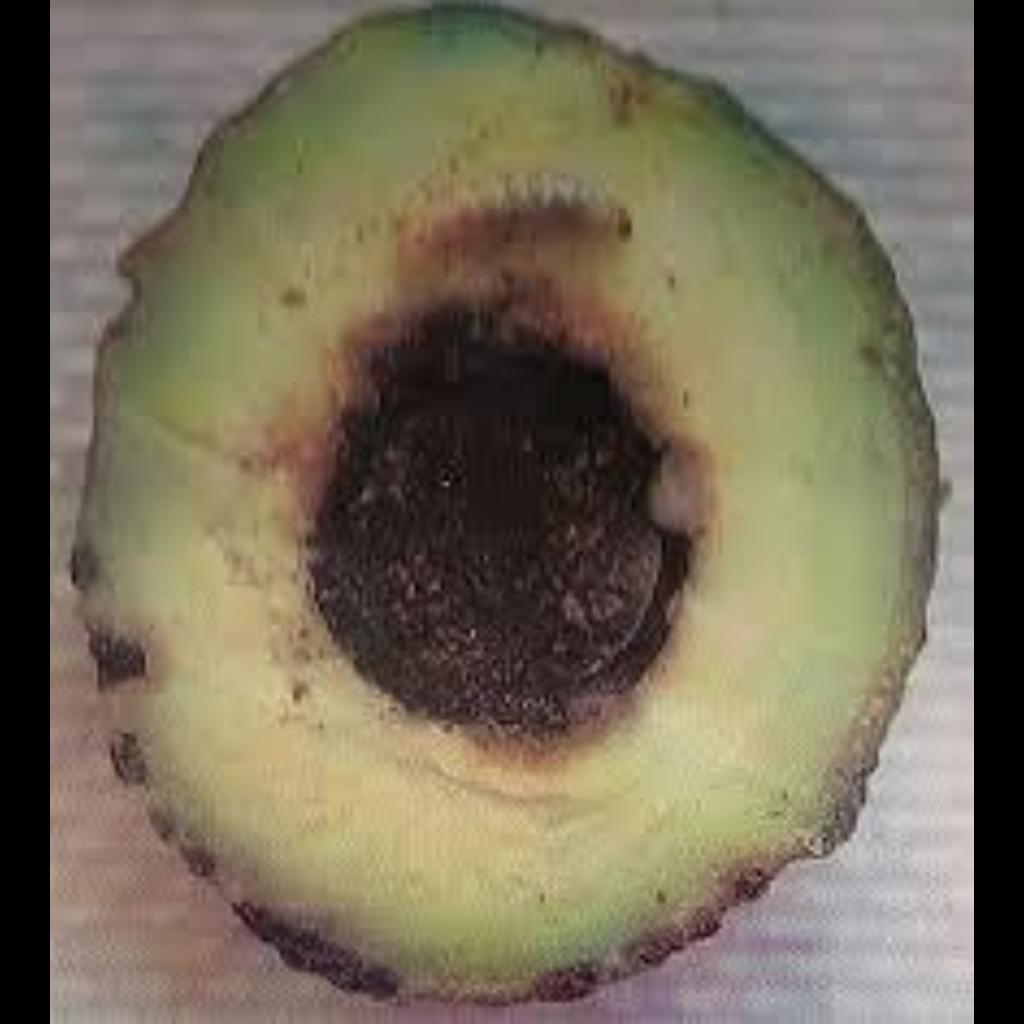Anthracnose: (126, 128, 798, 892)
